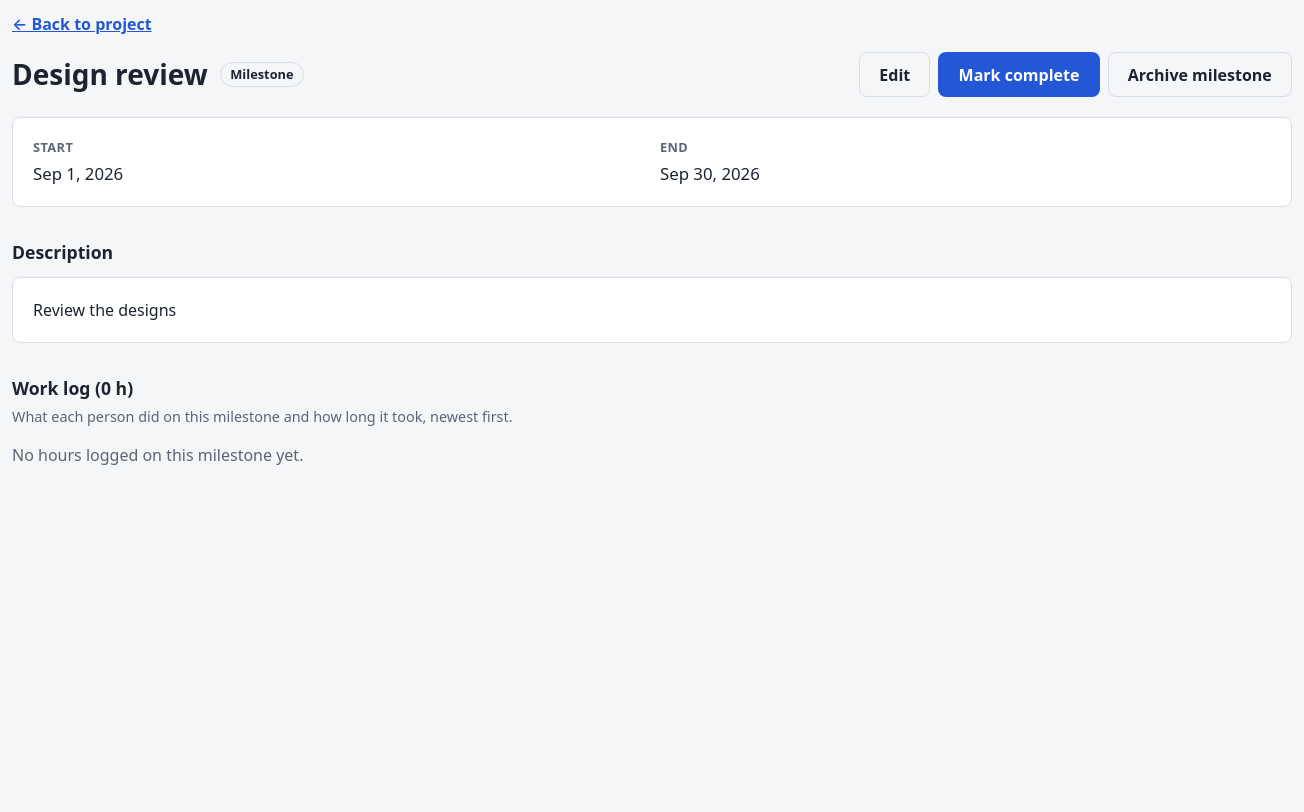
Scenario: MilestonePage editing › opens the edit form, hides the Edit button, and cancels
Click the button "Edit".
click(895, 75)  # box [859,52,930,97]
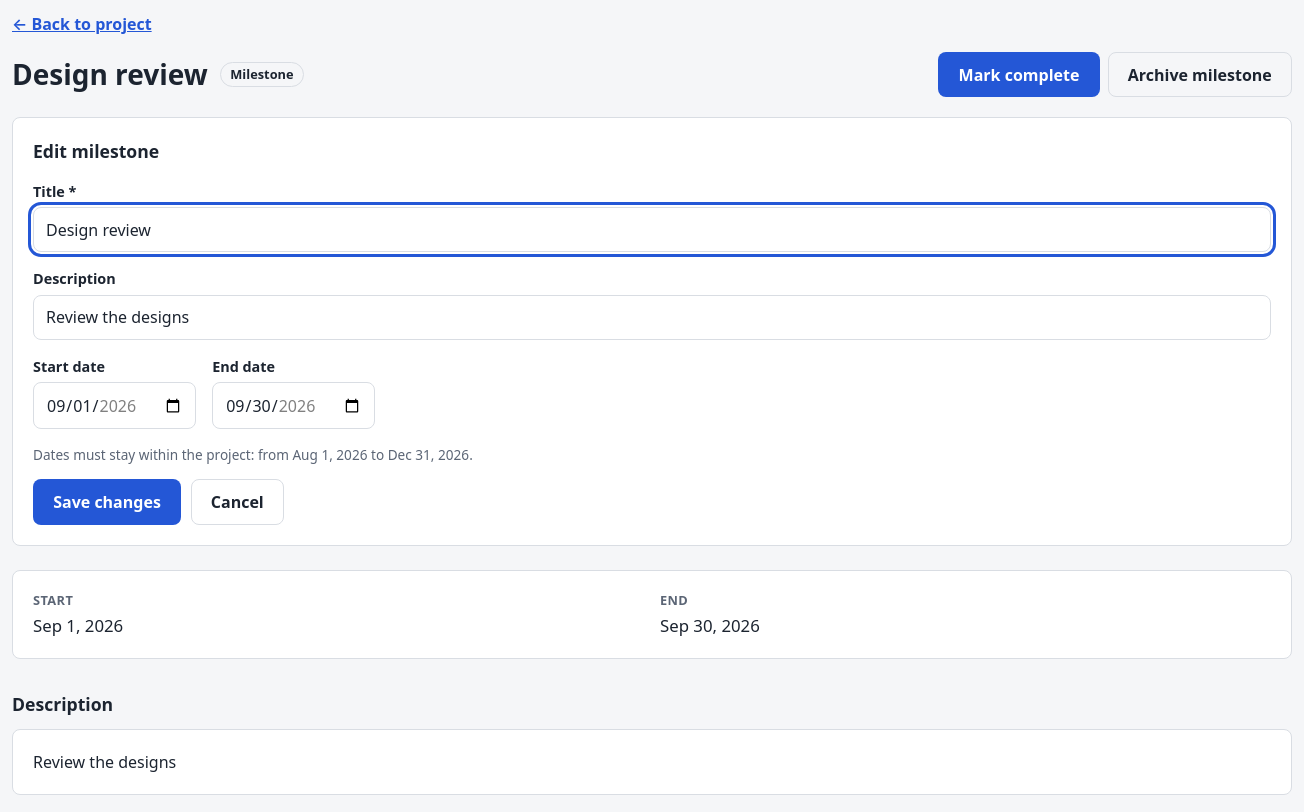
Now the heading "Edit milestone" is shown, box [33,139,159,163]
Now the field labelled "Title *" holds "Design review", box [33,207,1271,252]
Click the button "Cancel".
click(237, 502)  # box [191,479,284,524]
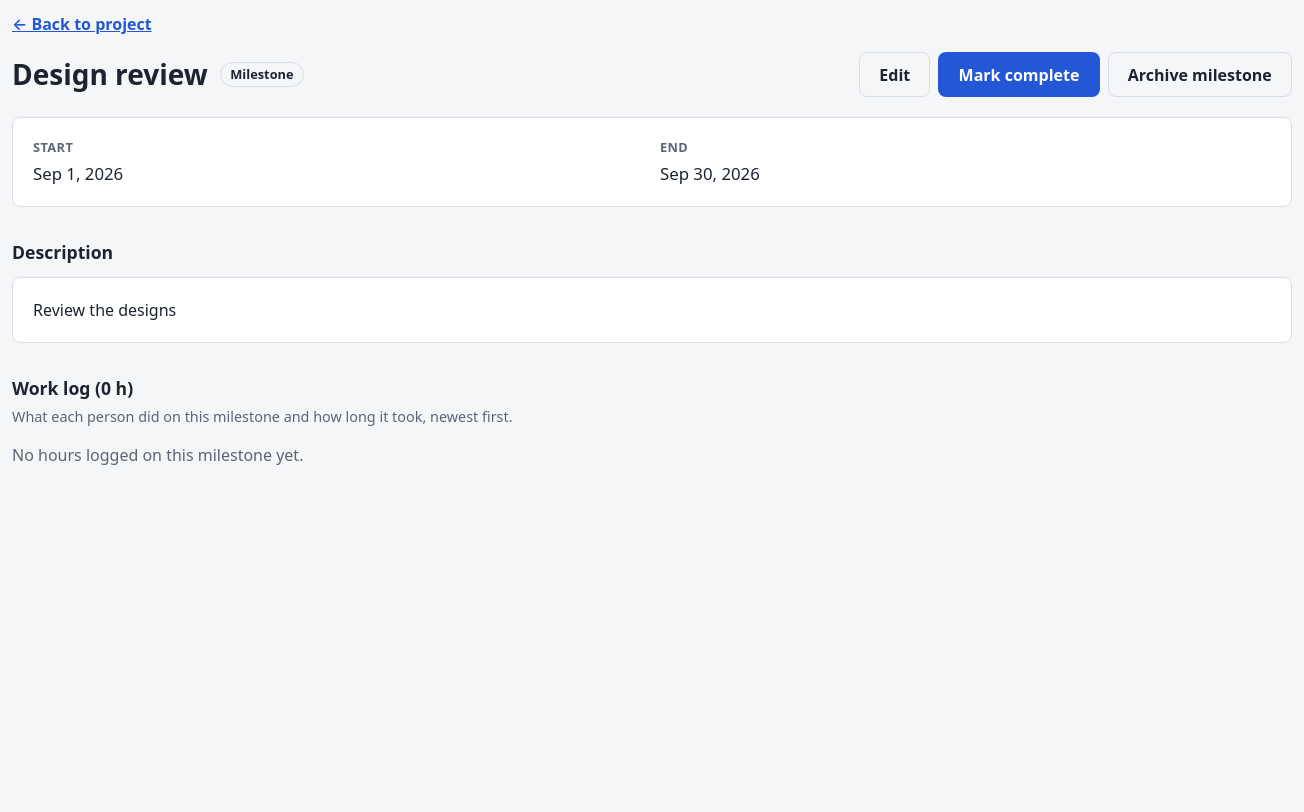
Now the heading "Edit milestone" is gone
Now the button "Edit" is shown, box [859,52,930,97]
